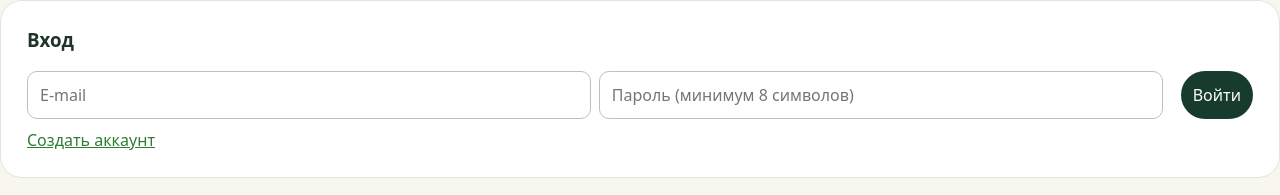
AuthPanel › switches to registration mode
Click the button "Создать аккаунт".
click(91, 140)  # box [27,129,155,151]
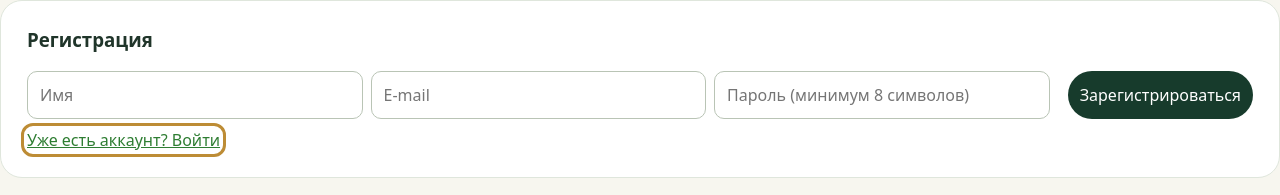
expect the heading "Регистрация" is shown: met, box [27,27,153,52]
expect the field with placeholder "Имя" is shown: met, box [27,71,362,119]
